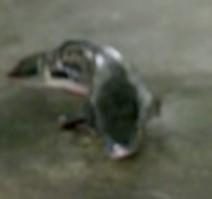Snakehead: (10, 38, 163, 160)
